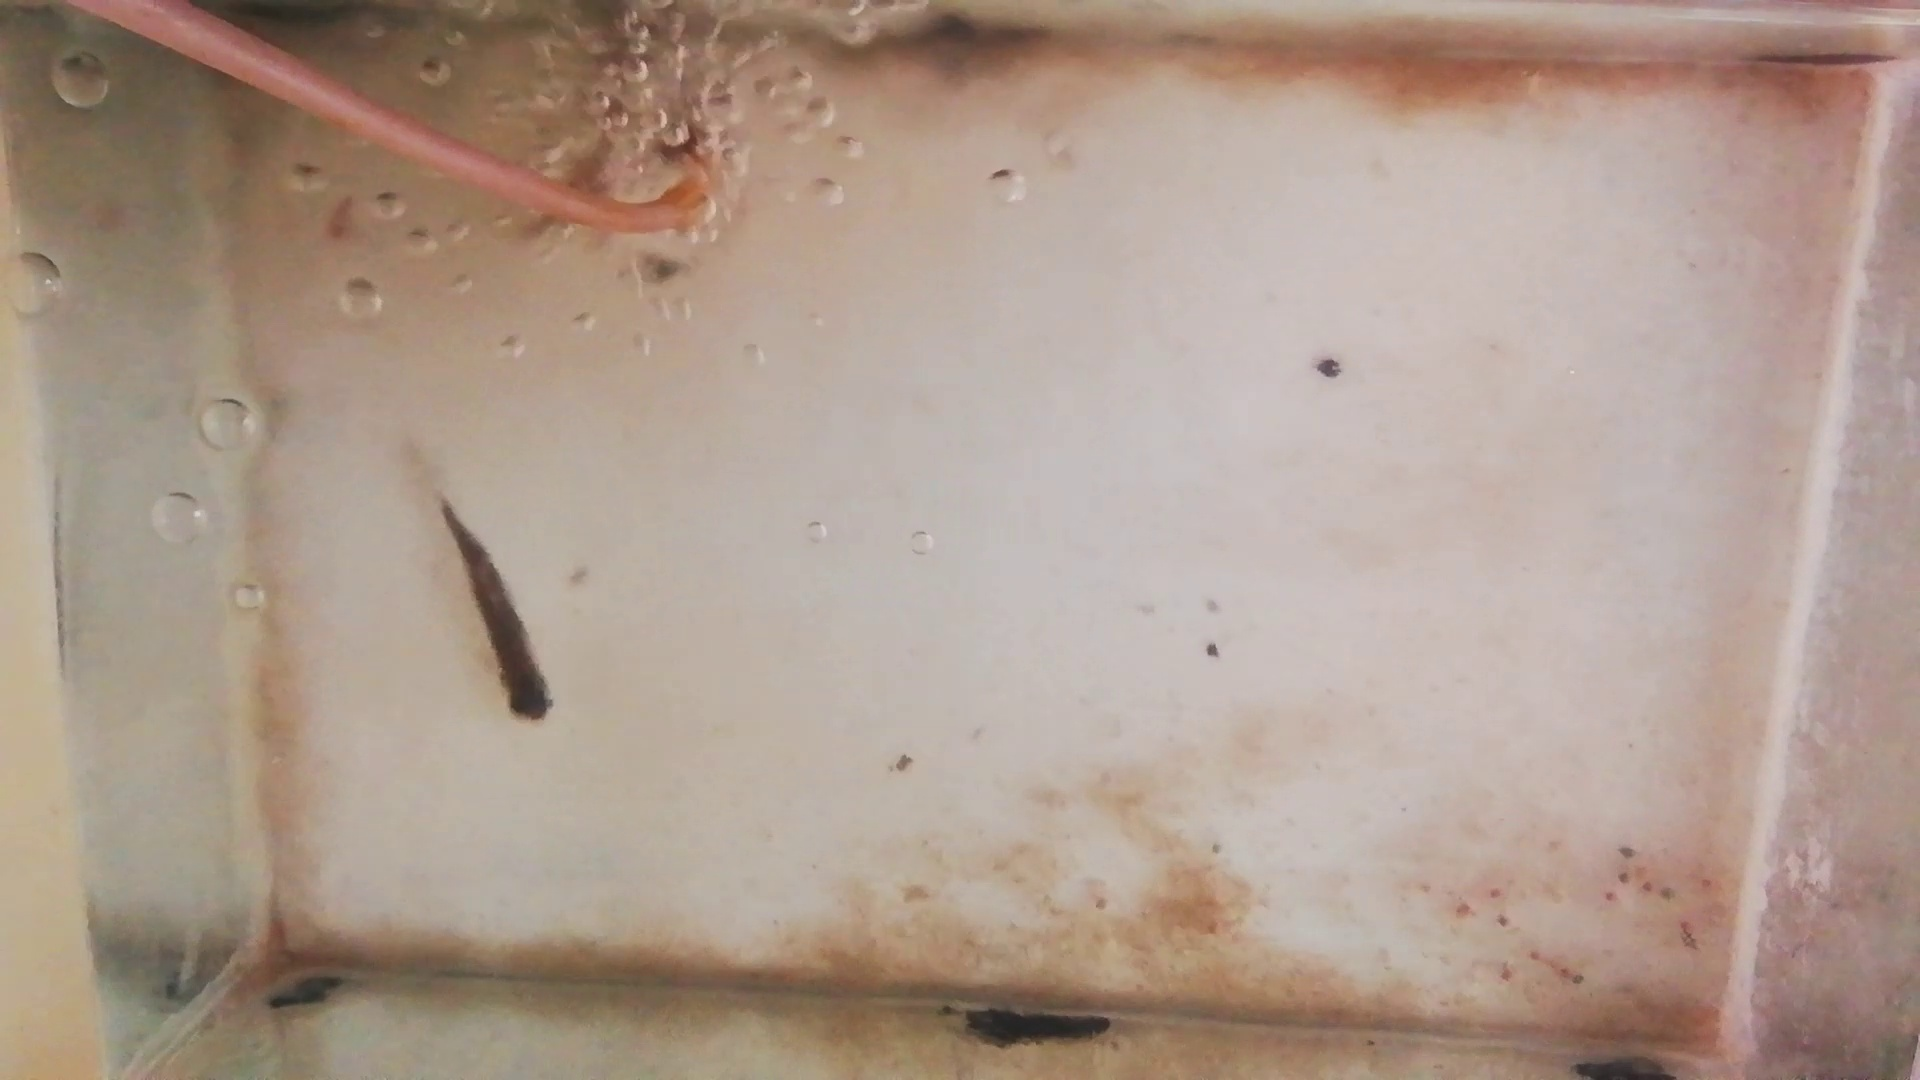fish: (434, 491, 555, 728), (570, 42, 630, 189)
